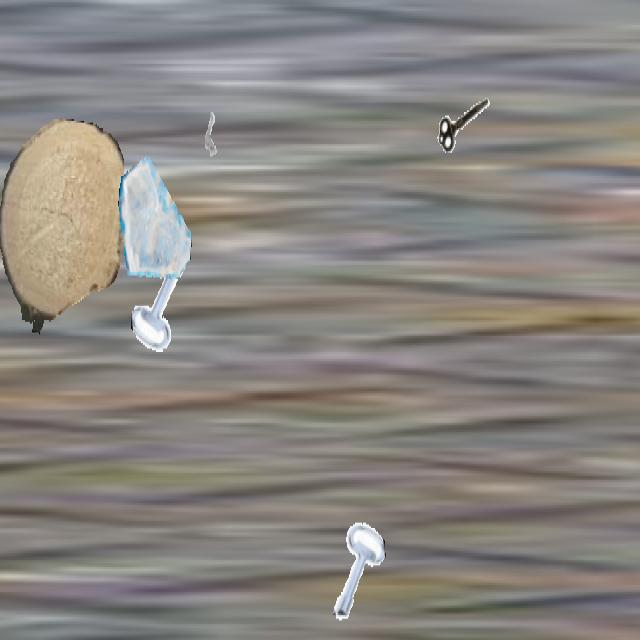glass: (118, 151, 192, 283)
metal: (131, 247, 193, 357), (326, 516, 386, 622), (435, 74, 493, 178), (192, 92, 230, 160)
wood: (0, 119, 123, 336)
